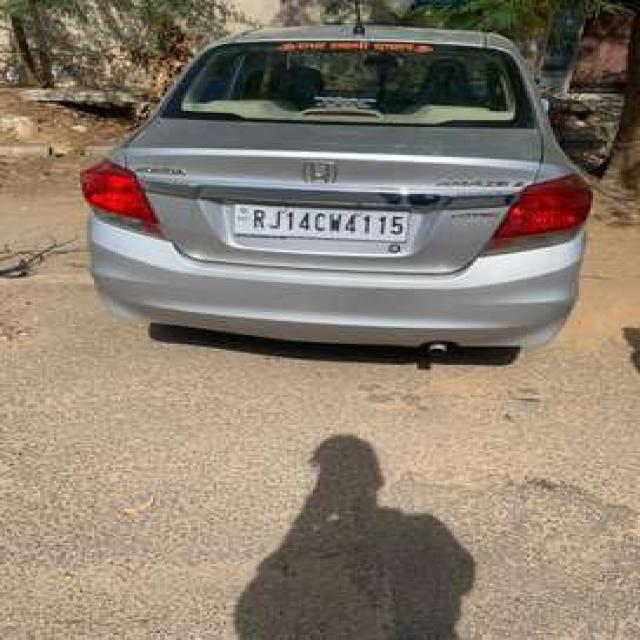Plate: (232, 204, 408, 241)
